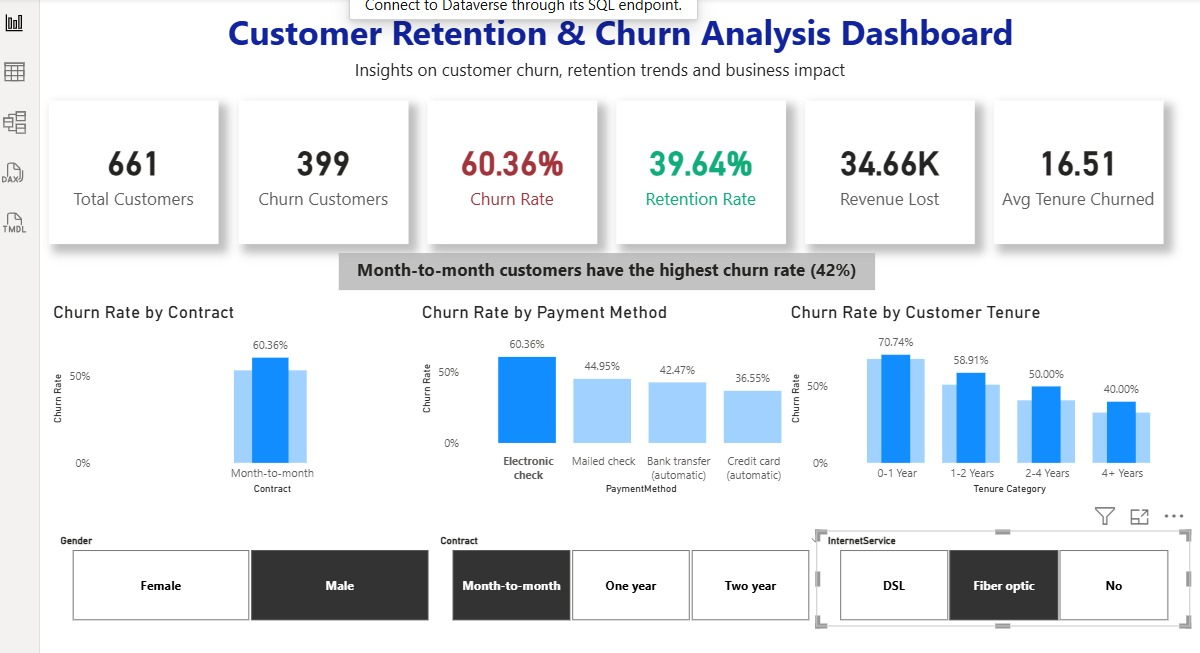

This screenshot's page, from the dashboard's own definition file:
{"tool":"powerbi","page":{"name":"Page 1","canvas":[1280,720],"ordinal":0},"visuals":[{"type":"textbox","box":[9.6,0,1128,279.9],"z":0},{"type":"textbox","box":[50.8,60.4,1128,41.2],"z":1000},{"type":"card","fields":{"Values":["ChurnData.Total Customers"]},"box":[9.6,112.5,186.6,157.8],"z":2000},{"type":"card","fields":{"Values":["ChurnData.Churn Customers"]},"box":[217.6,112.5,186,157.8],"z":3000},{"type":"card","fields":{"Values":["ChurnData.Churn Rate"]},"box":[424.9,112.5,186,157.8],"z":4000},{"type":"card","fields":{"Values":["ChurnData.Retention Rate"]},"box":[632.3,112.5,186,157.8],"z":5000},{"type":"card","fields":{"Values":["ChurnData.Revenue Lost"]},"box":[839.6,112.5,186,157.8],"z":6000},{"type":"card","fields":{"Values":["ChurnData.Avg Tenure Churned"]},"box":[1047,112.5,186,157.8],"z":7000},{"type":"clusteredColumnChart","title":"Churn Rate by Contract","fields":{"Category":["ChurnData.Contract"],"Y":["ChurnData.Churn Rate"]},"box":[9.6,333.4,440.5,216.8],"z":8000},{"type":"clusteredColumnChart","title":"Churn Rate by Payment Method","fields":{"Category":["ChurnData.PaymentMethod"],"Y":["ChurnData.Churn Rate"]},"box":[414.4,333.4,440.5,216],"z":9000},{"type":"clusteredColumnChart","title":"Churn Rate by Customer Tenure","fields":{"Category":["ChurnData.Tenure Category"],"Y":["ChurnData.Churn Rate"]},"box":[819.2,333.4,440.5,216.8],"z":10000},{"type":"slicer","fields":{"Values":["ChurnData.gender"]},"box":[9.6,584.6,440.5,105.7],"z":11000},{"type":"slicer","fields":{"Values":["ChurnData.Contract"]},"box":[426.8,584.6,441.9,105.7],"z":12000},{"type":"slicer","fields":{"Values":["ChurnData.InternetService"]},"box":[852.1,584.6,410.3,105.7],"z":13000},{"type":"textbox","box":[328,279.9,588.7,41.2],"z":14000}]}

Visuals, with their boxes on the page's 1280x720 design canvas (x1, y1, x2, y2). These are canvas units, not pixel positions in the 1200x653 screenshot, which may show the page scaled, cropped or inside an application window:
textbox: l=10, t=0, r=1138, b=280
textbox: l=51, t=60, r=1179, b=102
card - ChurnData.Total Customers: l=10, t=112, r=196, b=270
card - ChurnData.Churn Customers: l=218, t=112, r=404, b=270
card - ChurnData.Churn Rate: l=425, t=112, r=611, b=270
card - ChurnData.Retention Rate: l=632, t=112, r=818, b=270
card - ChurnData.Revenue Lost: l=840, t=112, r=1026, b=270
card - ChurnData.Avg Tenure Churned: l=1047, t=112, r=1233, b=270
"Churn Rate by Contract" clusteredColumnChart: l=10, t=333, r=450, b=550
"Churn Rate by Payment Method" clusteredColumnChart: l=414, t=333, r=855, b=549
"Churn Rate by Customer Tenure" clusteredColumnChart: l=819, t=333, r=1260, b=550
slicer - ChurnData.gender: l=10, t=585, r=450, b=690
slicer - ChurnData.Contract: l=427, t=585, r=869, b=690
slicer - ChurnData.InternetService: l=852, t=585, r=1262, b=690
textbox: l=328, t=280, r=917, b=321
